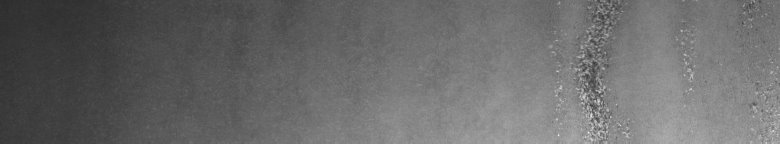hc: (549, 4, 776, 136)
